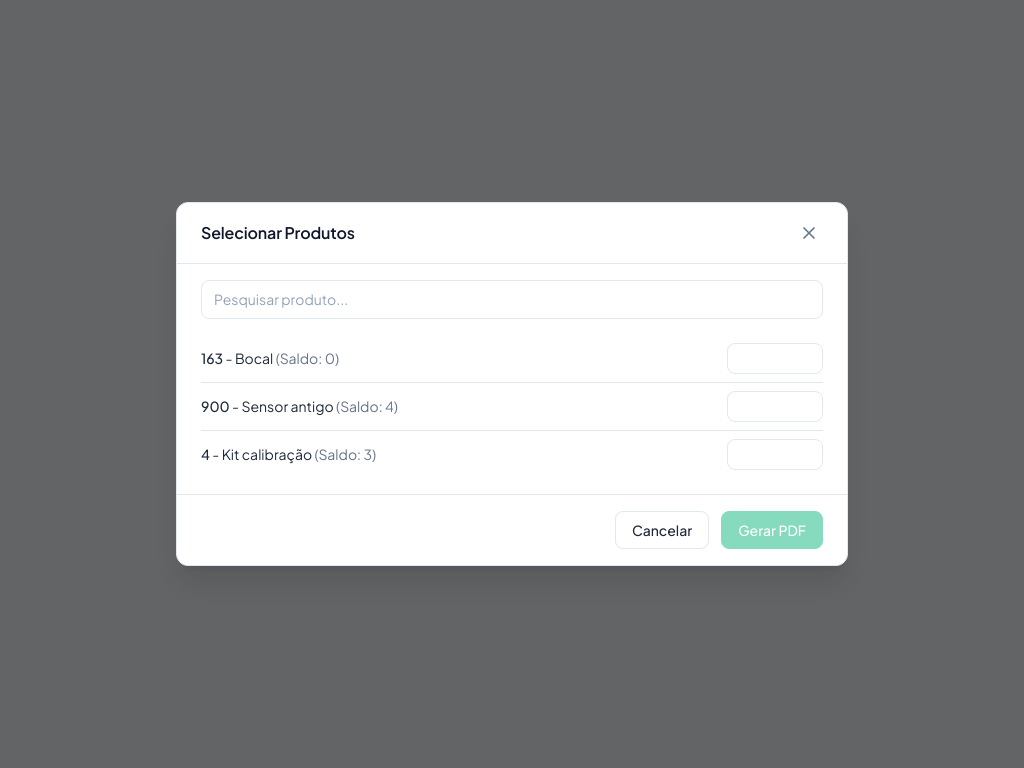
quantidade que a busca esconde › volta a aparecer no campo quando o produto volta para a lista
The image size is (1024, 768).
Type "3" into the number field named "Quantidade de Sensor antigo" at x=775, y=406, box [727,391,823,422]
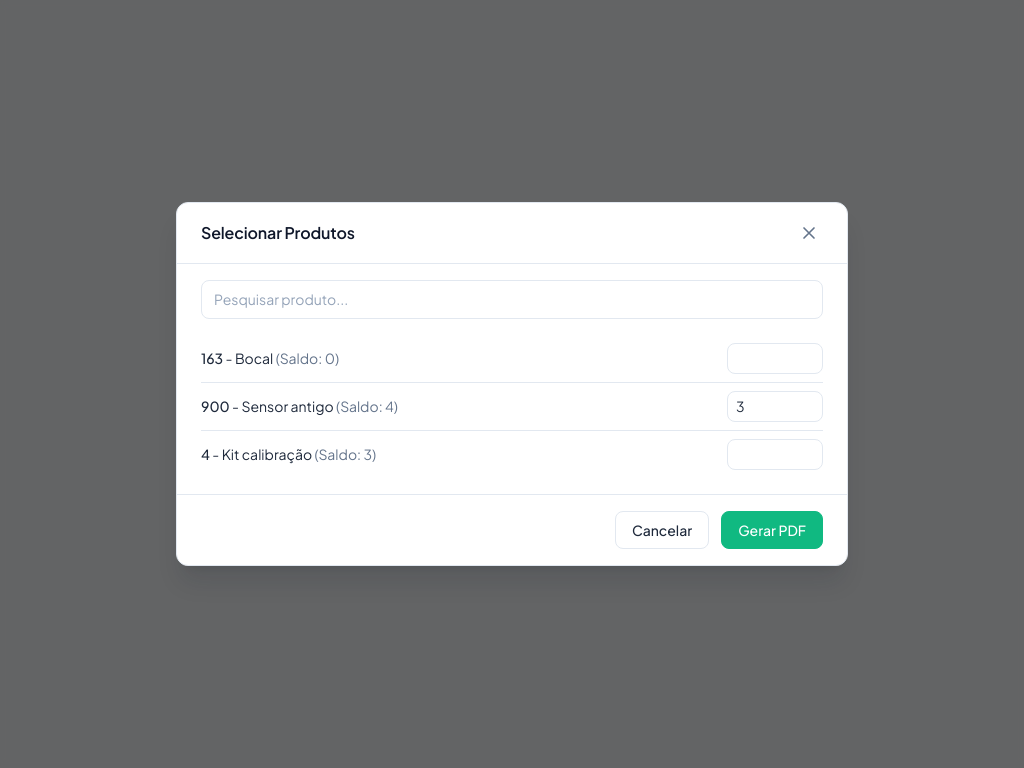
Type "Bocal" into the field with placeholder "Pesquisar produto..." at x=512, y=300, box [201,280,823,319]
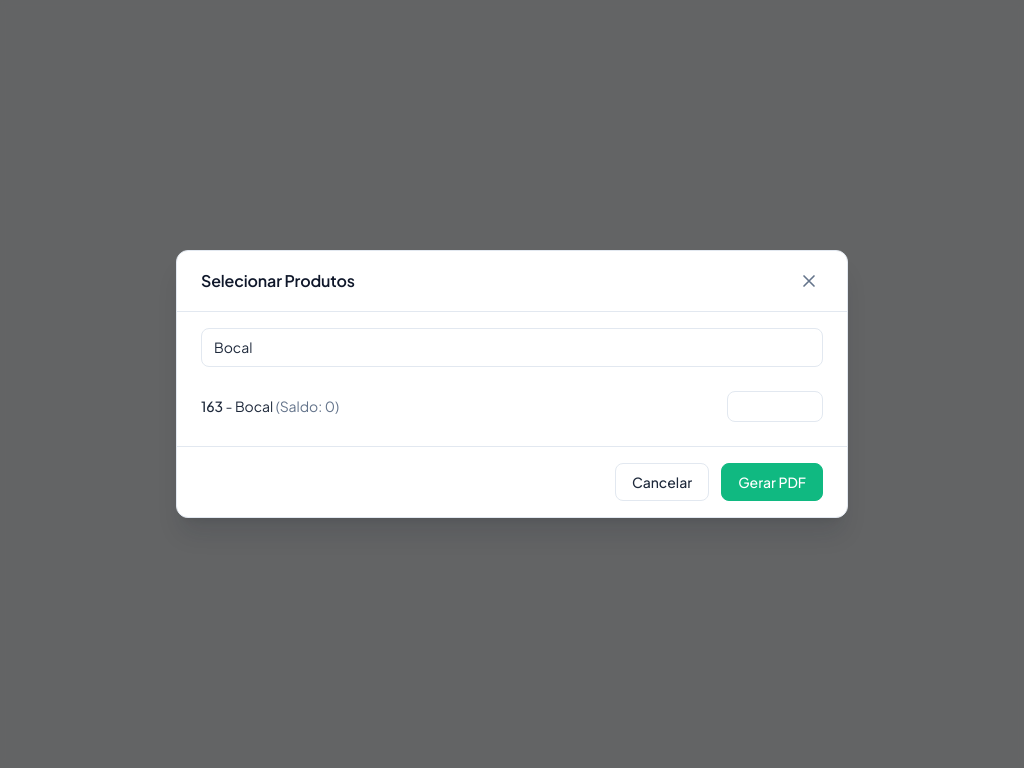
Clear the field with placeholder "Pesquisar produto..." at x=512, y=348, box [201,328,823,367]
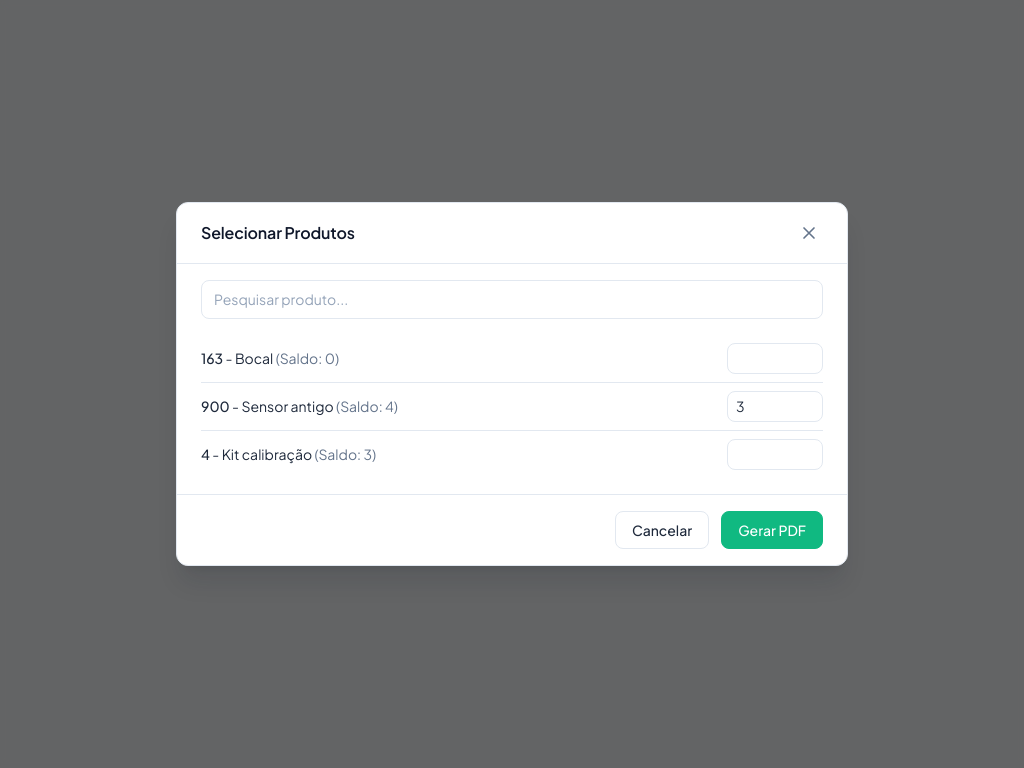
Result: the number field named "Quantidade de Sensor antigo" holds "3" at [727,391,823,422]
